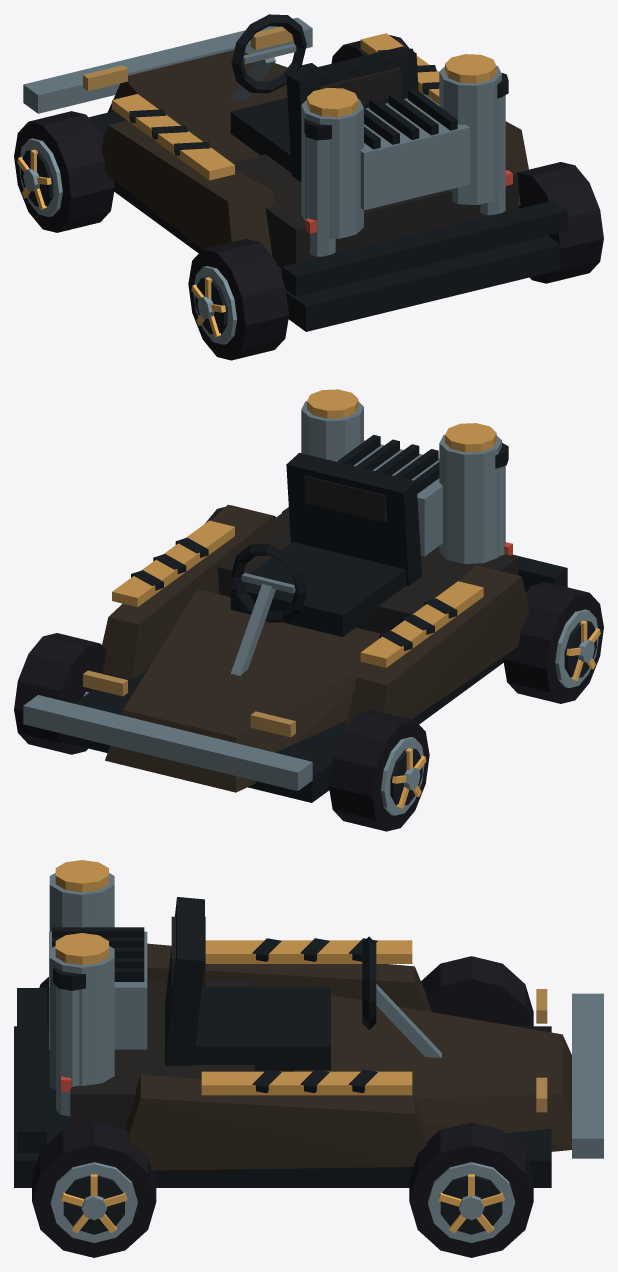
The model's file is kart.glb.
3 views of the same model, one above another, from view 1: azimuth 30°, elevation 25°; view 2: azimuth 150°, elevation 25°; view 3: azimuth 270°, elevation 25° (orthographic). The views are drawn at different scales.
Parts seen in each view (by area): view 1: chassis, wheel-rear-left, wheel-front-left, wheel-rear-right, wheel-front-right; view 2: chassis, wheel-front-left, wheel-rear-left, wheel-front-right; view 3: chassis, wheel-front-right, wheel-rear-right, wheel-front-left.
Part boxes in pixels (x1,y1,x2,y2): chassis: (23, 14, 567, 331); wheel-rear-left: (188, 238, 288, 360); wheel-front-left: (14, 111, 114, 232); wheel-rear-right: (516, 162, 603, 283); wheel-front-right: (331, 35, 409, 63); chassis: (23, 389, 567, 802); wheel-front-left: (329, 710, 429, 831); wheel-rear-left: (503, 582, 603, 703); wheel-front-right: (14, 633, 112, 754); chassis: (14, 860, 603, 1187); wheel-front-right: (409, 1122, 533, 1257); wheel-rear-right: (32, 1122, 156, 1257); wheel-front-left: (421, 956, 533, 1026).
Bounding box in the file's own units: 2.4 × 1.4 × 2.94.
